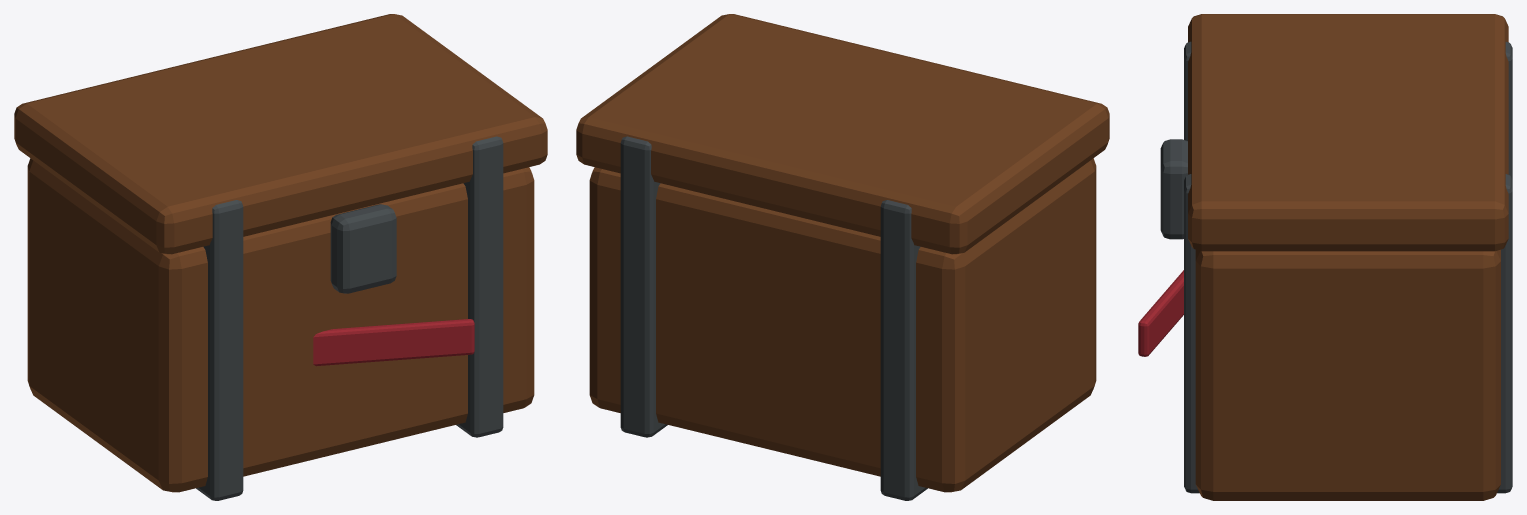
File: pirate-gear-crate.glb
The picture shows the model from 3 angles, left to right: view 1: azimuth 30°, elevation 25°; view 2: azimuth 150°, elevation 25°; view 3: azimuth 270°, elevation 25°; orthographic projection. The views are drawn at different scales.
Visible parts, largest first — view 1: Planked crate body, Reinforced lid, Iron band A, Iron band B, Painted pirate slash, Iron lock; view 2: Planked crate body, Reinforced lid, Iron band A, Iron band B; view 3: Planked crate body, Reinforced lid, Iron band B, Iron lock, Painted pirate slash, Iron band A.
Part boxes in pixels (x1,y1,x2,y2): Planked crate body: [27, 158, 534, 492]; Reinforced lid: [14, 14, 547, 254]; Iron band A: [196, 200, 243, 500]; Iron band B: [456, 136, 503, 437]; Painted pirate slash: [313, 319, 474, 366]; Iron lock: [330, 204, 396, 293]; Planked crate body: [589, 158, 1096, 492]; Reinforced lid: [576, 14, 1109, 254]; Iron band A: [880, 200, 927, 500]; Iron band B: [620, 136, 667, 437]; Planked crate body: [1195, 249, 1500, 500]; Reinforced lid: [1188, 14, 1508, 251]; Iron band B: [1184, 174, 1512, 493]; Iron lock: [1160, 139, 1187, 239]; Painted pirate slash: [1138, 270, 1183, 356]; Iron band A: [1184, 41, 1512, 179].
Size of the model in its own units: 1.2 by 0.885 by 0.957.
